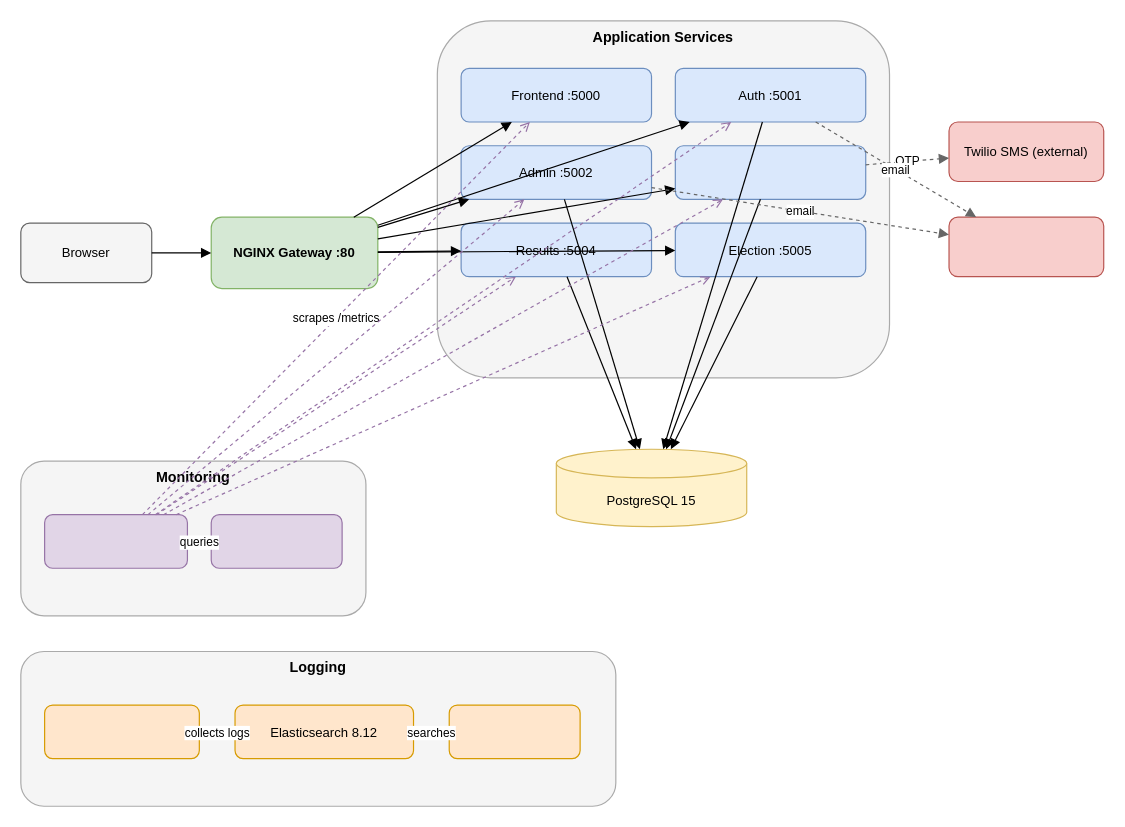
Some shapes in this 1125 by 827 pixel diagram are drawn without their labels. The shapes that lost their labels are listed below. From the top down, each one's centre as x and y in pixels, then its label:
point 770,172: Voting :5003
point 1026,246: MailHog SMTP
point 115,540: Prometheus
point 276,540: Grafana
point 121,731: Fluent Bit (DaemonSet)
point 514,731: Kibana
